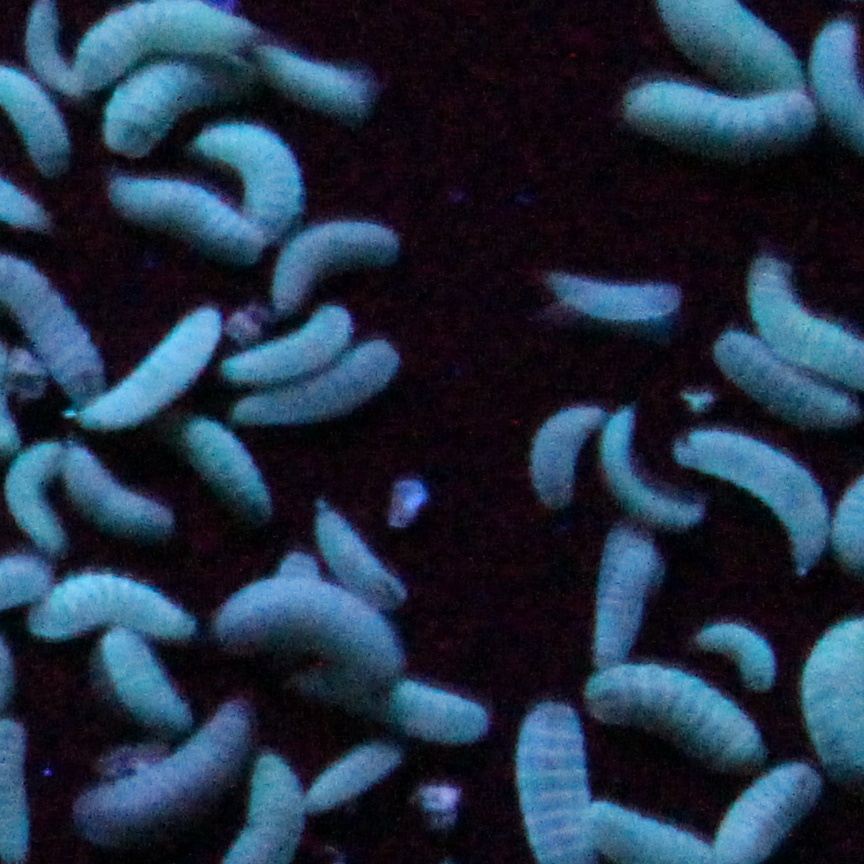larve: (675, 428, 831, 567), (213, 576, 397, 690), (73, 714, 244, 833), (89, 311, 228, 435), (580, 674, 760, 755), (243, 33, 392, 118), (82, 53, 209, 150), (106, 172, 277, 243), (223, 348, 401, 416), (619, 72, 809, 133), (582, 516, 658, 662), (53, 443, 172, 533), (338, 676, 487, 747), (93, 623, 197, 723), (594, 421, 699, 518), (270, 226, 397, 306), (28, 576, 201, 631), (305, 494, 393, 600), (226, 314, 353, 387), (1, 433, 65, 555), (216, 133, 301, 223), (191, 417, 268, 510), (528, 411, 599, 501), (553, 282, 687, 328), (309, 743, 399, 810), (26, 1, 82, 84), (684, 631, 787, 672)
